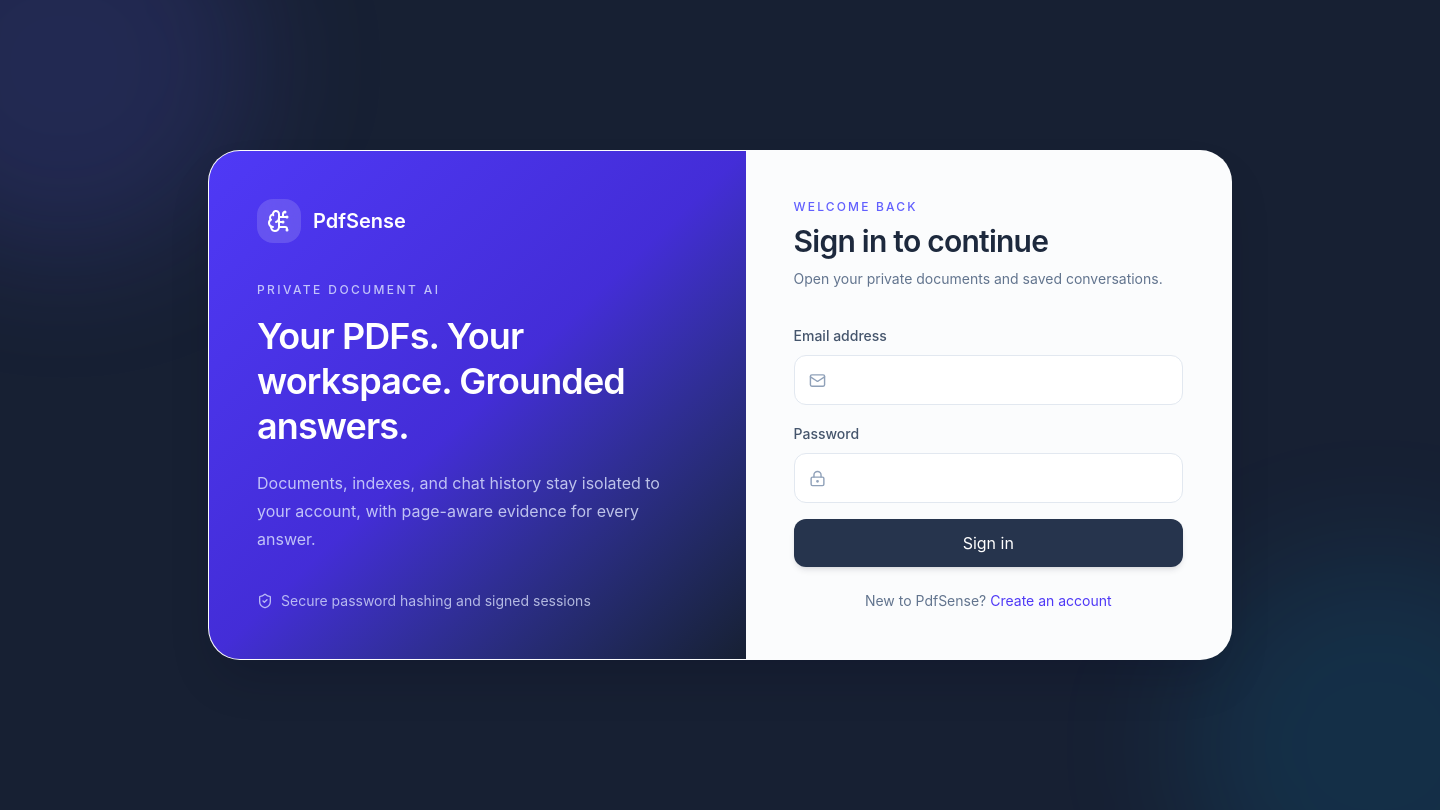
Test: AuthScreen › switches to account creation
Click the button "Create an account".
click(1051, 601)  # box [990,591,1112,611]
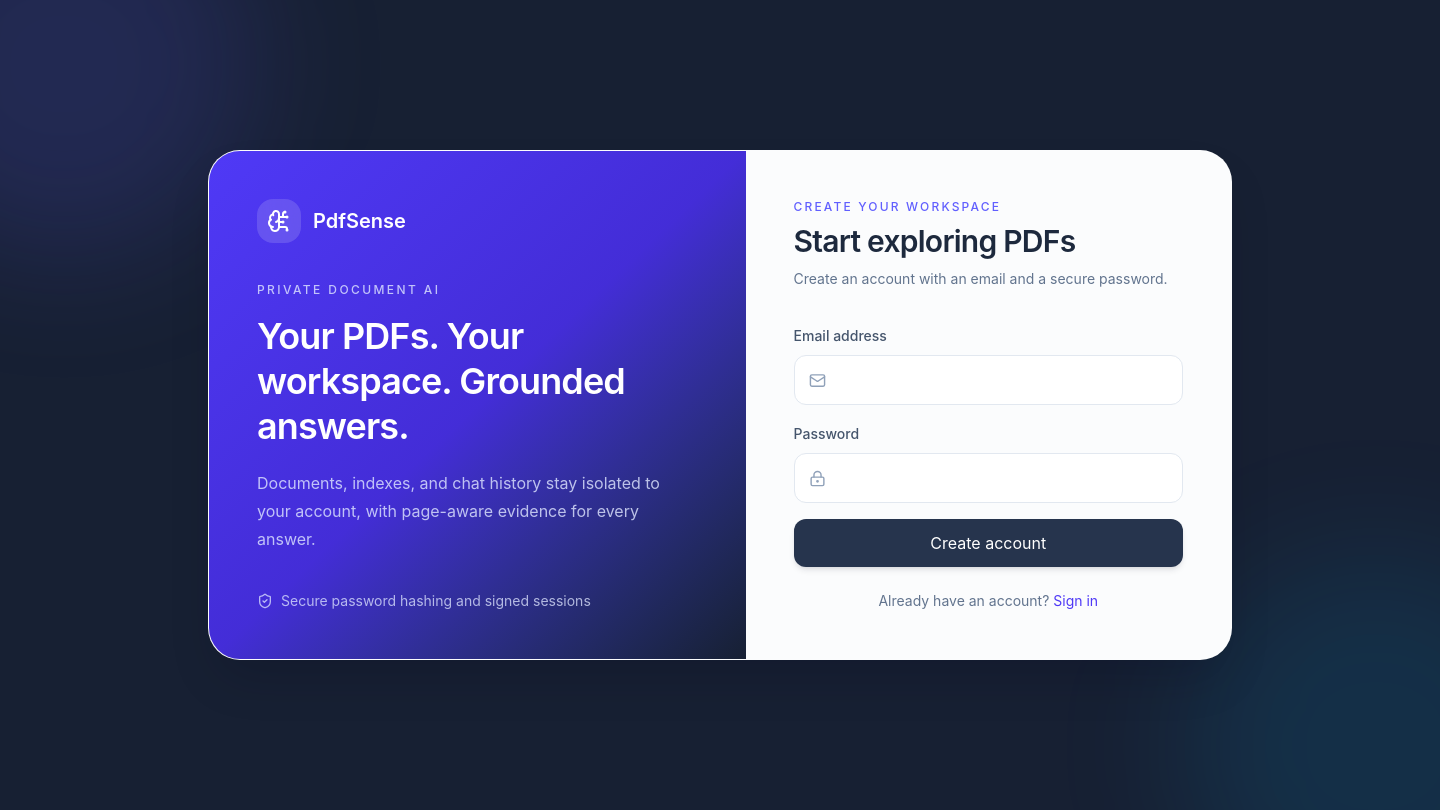
Expected: the button "Create account" is shown, [794,519,1183,567]
